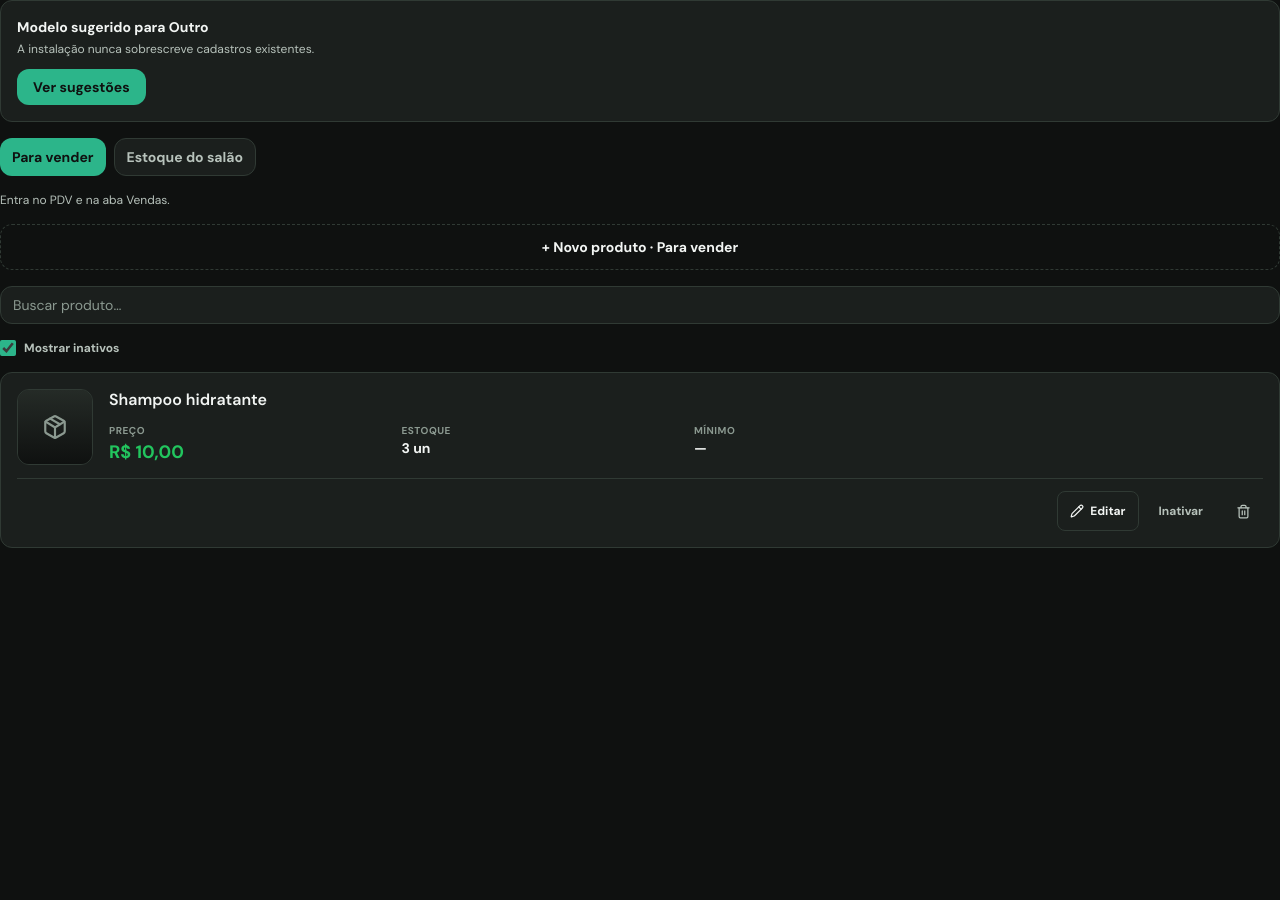
Scenario: ProductCatalogPanel — ações do card › mostra a mensagem do backend quando o produto tem histórico
This screenshot has width=1280, height=900.
Click the button named "Apagar produto" at (1243, 511), box [1223,491,1263,531]
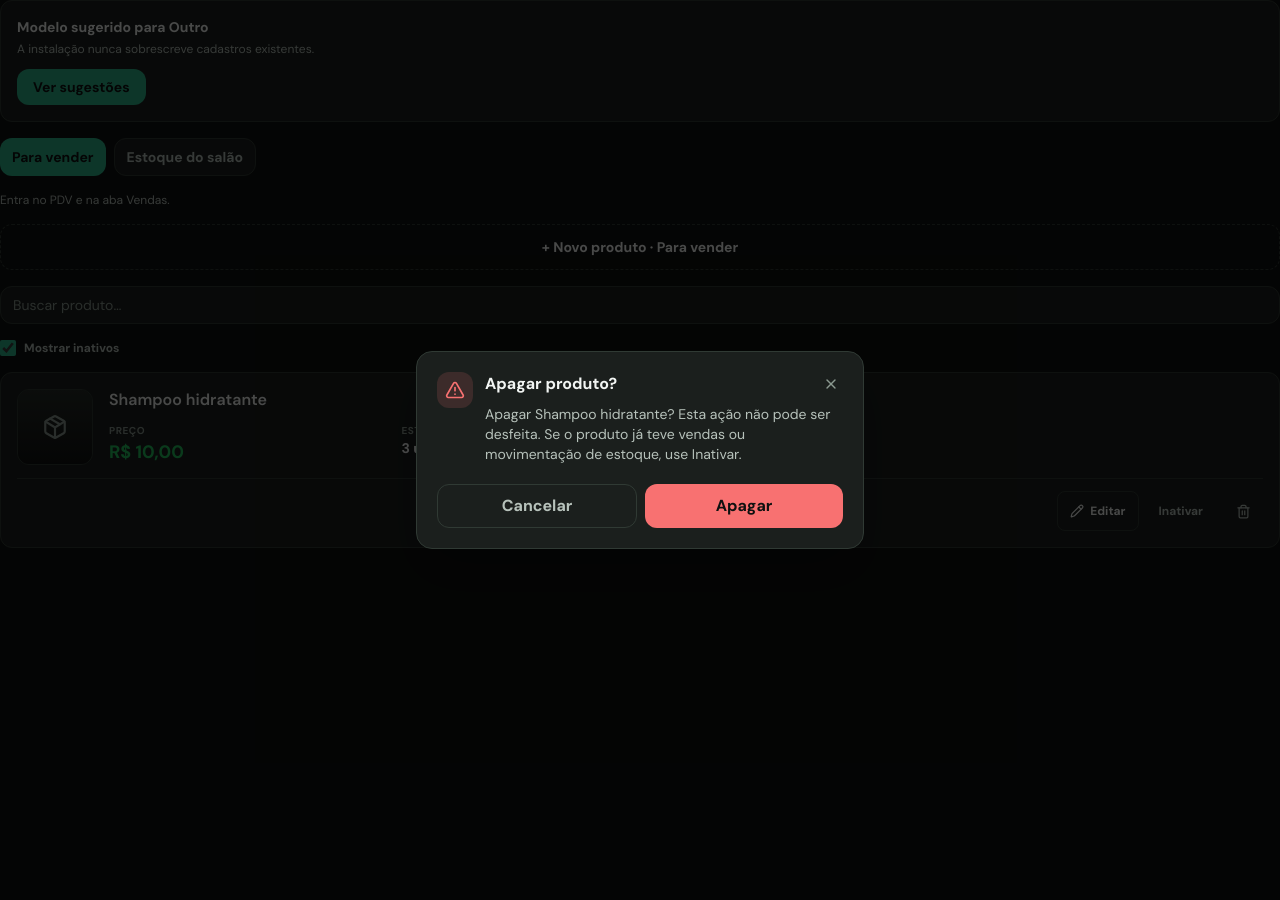
Click the button "Apagar" at (744, 506), box [645,484,843,528]
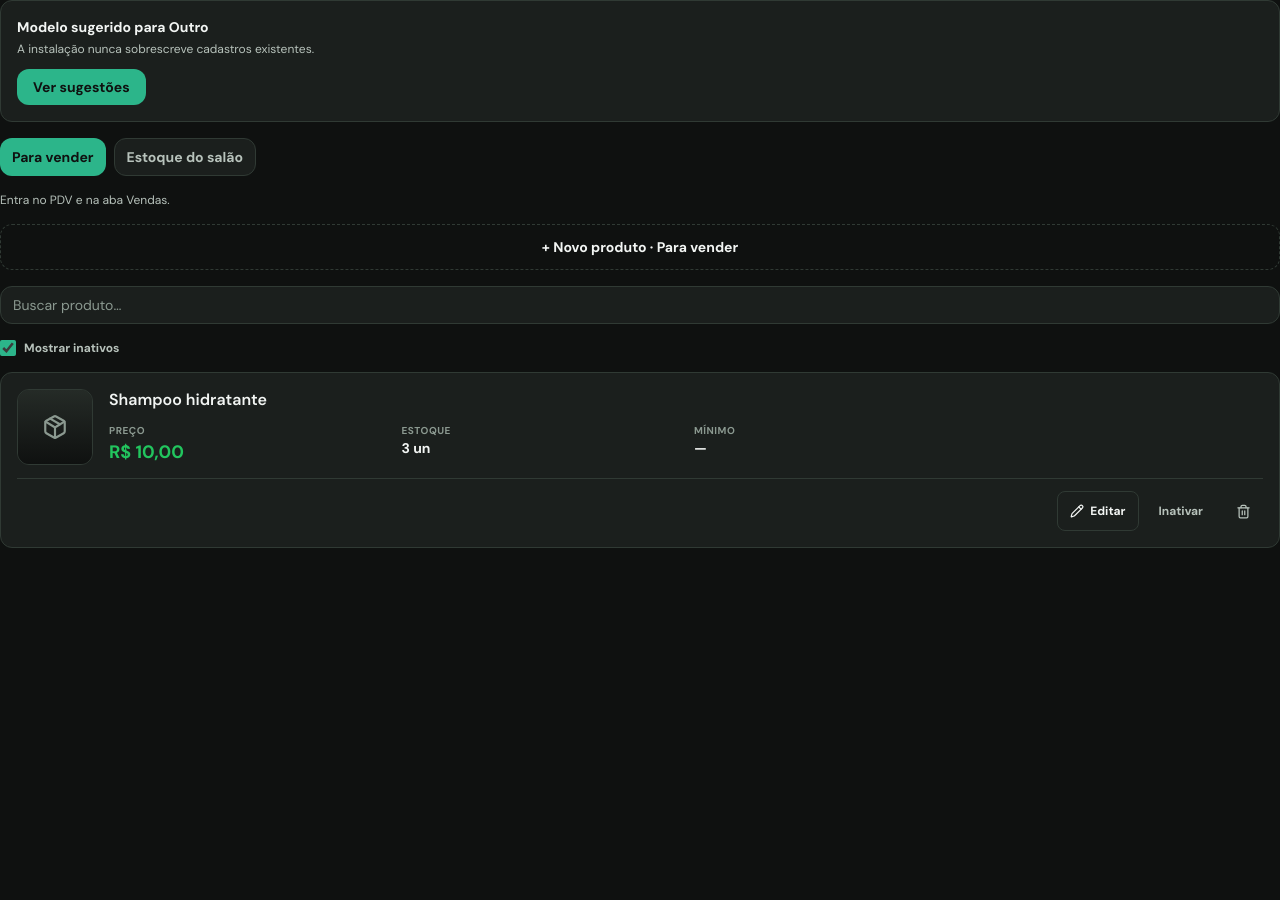
Check: the dialog is gone
